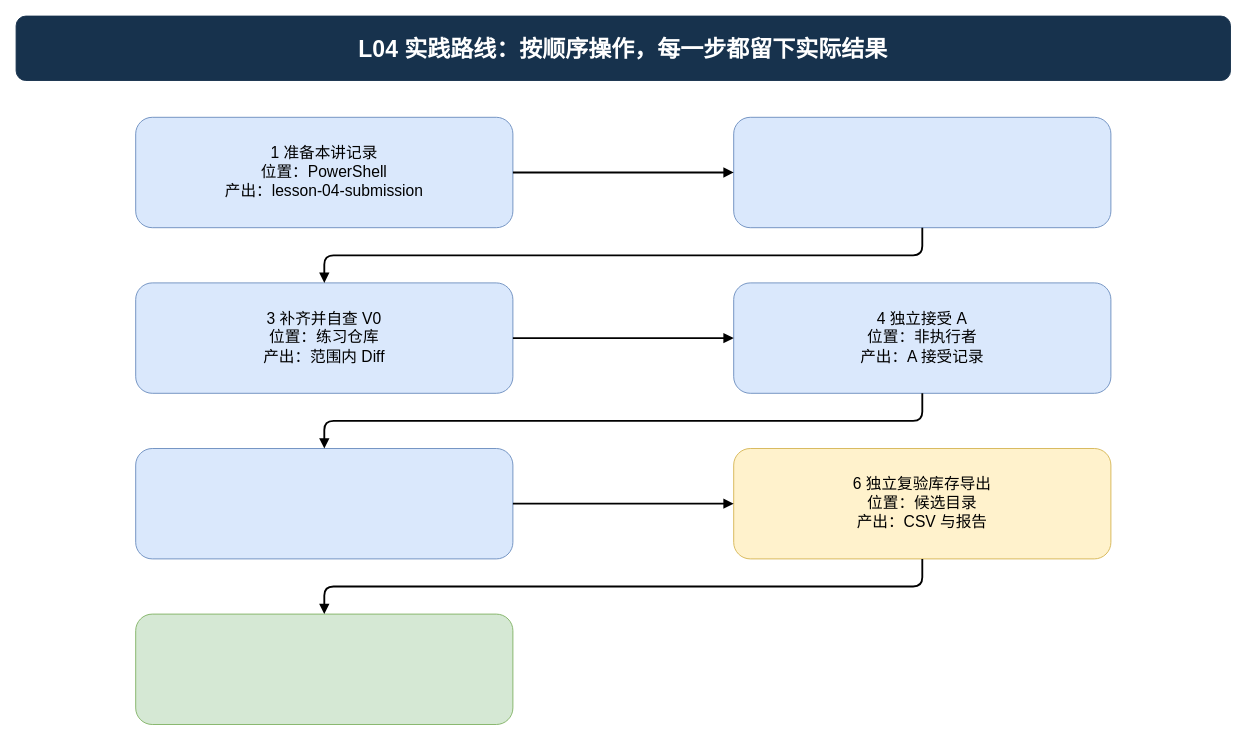
The diagram is 1247 pixels wide and 741 high, and some of its shapes have lost their labels. The shapes that lost their labels are listed below. From the top down, each one's centre as x and y in pixels, then its label:
the point at 922,172: 2 调查 V0 缺口 位置：写作会话 + 你 产出：Ticket A 合同
the point at 324,503: 5 冻结并提交 B 位置：控制工作台 产出：任务与候选
the point at 324,668: 7 接受或打回 位置：审核者 产出：handoff.md
